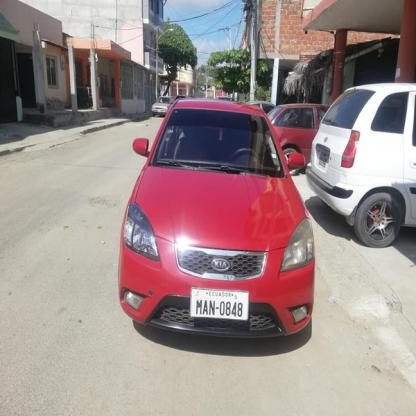Placa: (188, 286, 252, 324)
